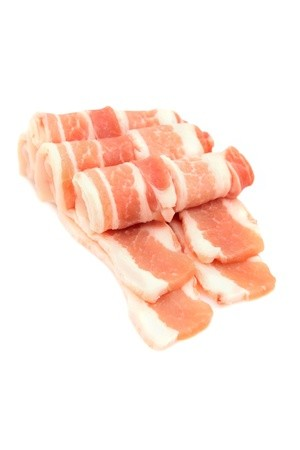bacon: (14, 81, 290, 351)
